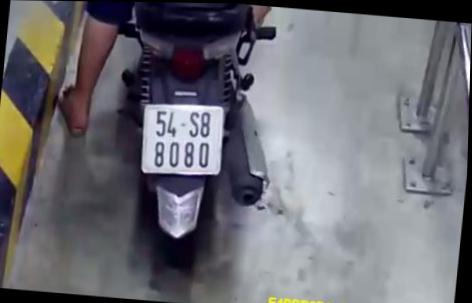LP: (136, 96, 230, 179)
